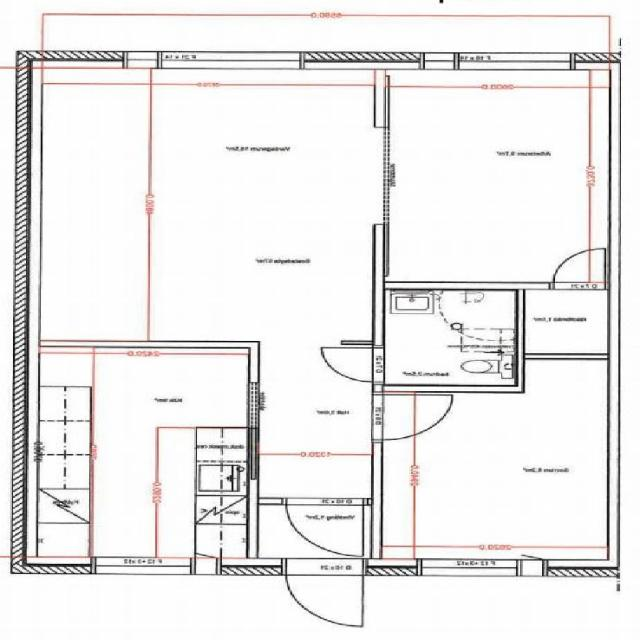door: (286, 560, 364, 627), (286, 498, 364, 556), (373, 396, 453, 441), (554, 248, 606, 289), (321, 348, 383, 382)
